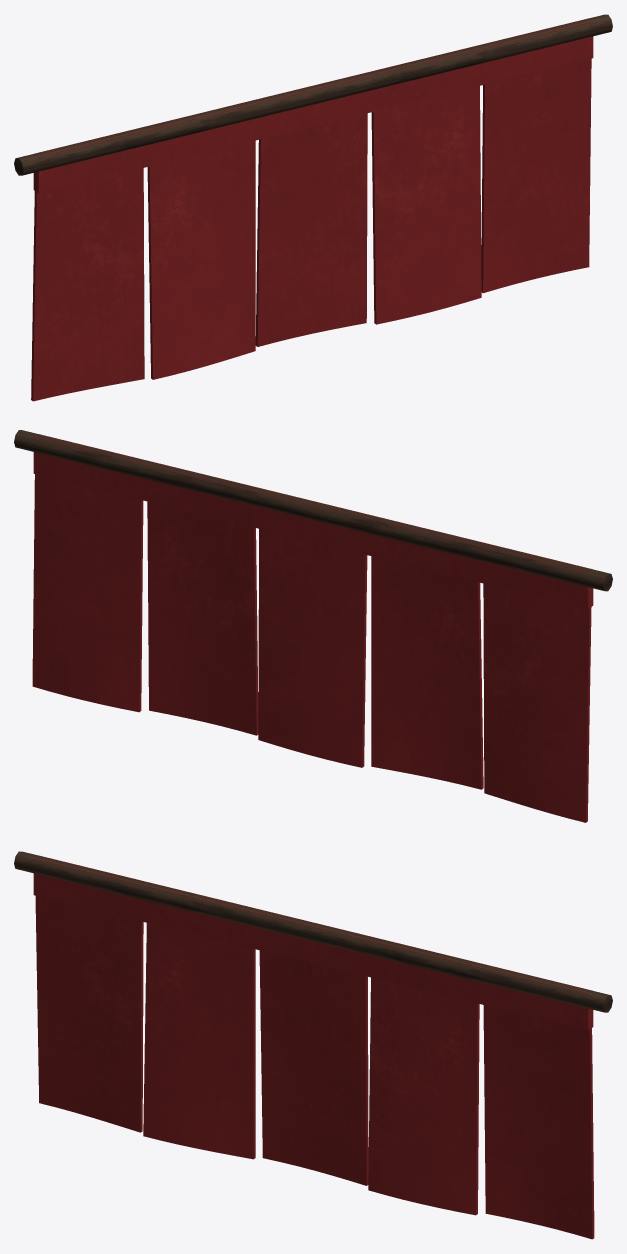
Rendered from HO_Prop_Noren_8_Crimson.fbx.
3 views of the same model, one above another, from view 1: azimuth 30°, elevation 25°; view 2: azimuth 150°, elevation 25°; view 3: azimuth 330°, elevation 25° (orthographic).
Visible parts, largest first — view 1: HO_Prop_Noren_8_Crimson__Cloth_Crimson, HO_Prop_Noren_8_Crimson__Timber_Dark; view 2: HO_Prop_Noren_8_Crimson__Cloth_Crimson, HO_Prop_Noren_8_Crimson__Timber_Dark; view 3: HO_Prop_Noren_8_Crimson__Cloth_Crimson, HO_Prop_Noren_8_Crimson__Timber_Dark.
Part boxes in pixels (x1,y1,x2,y2): HO_Prop_Noren_8_Crimson__Cloth_Crimson: (31, 18, 593, 401); HO_Prop_Noren_8_Crimson__Timber_Dark: (14, 14, 612, 175); HO_Prop_Noren_8_Crimson__Cloth_Crimson: (32, 434, 593, 822); HO_Prop_Noren_8_Crimson__Timber_Dark: (14, 430, 612, 591); HO_Prop_Noren_8_Crimson__Cloth_Crimson: (33, 855, 594, 1239); HO_Prop_Noren_8_Crimson__Timber_Dark: (14, 851, 612, 1012).
Bounding box in the file's own units: 8.5 × 3.44 × 0.2498.
